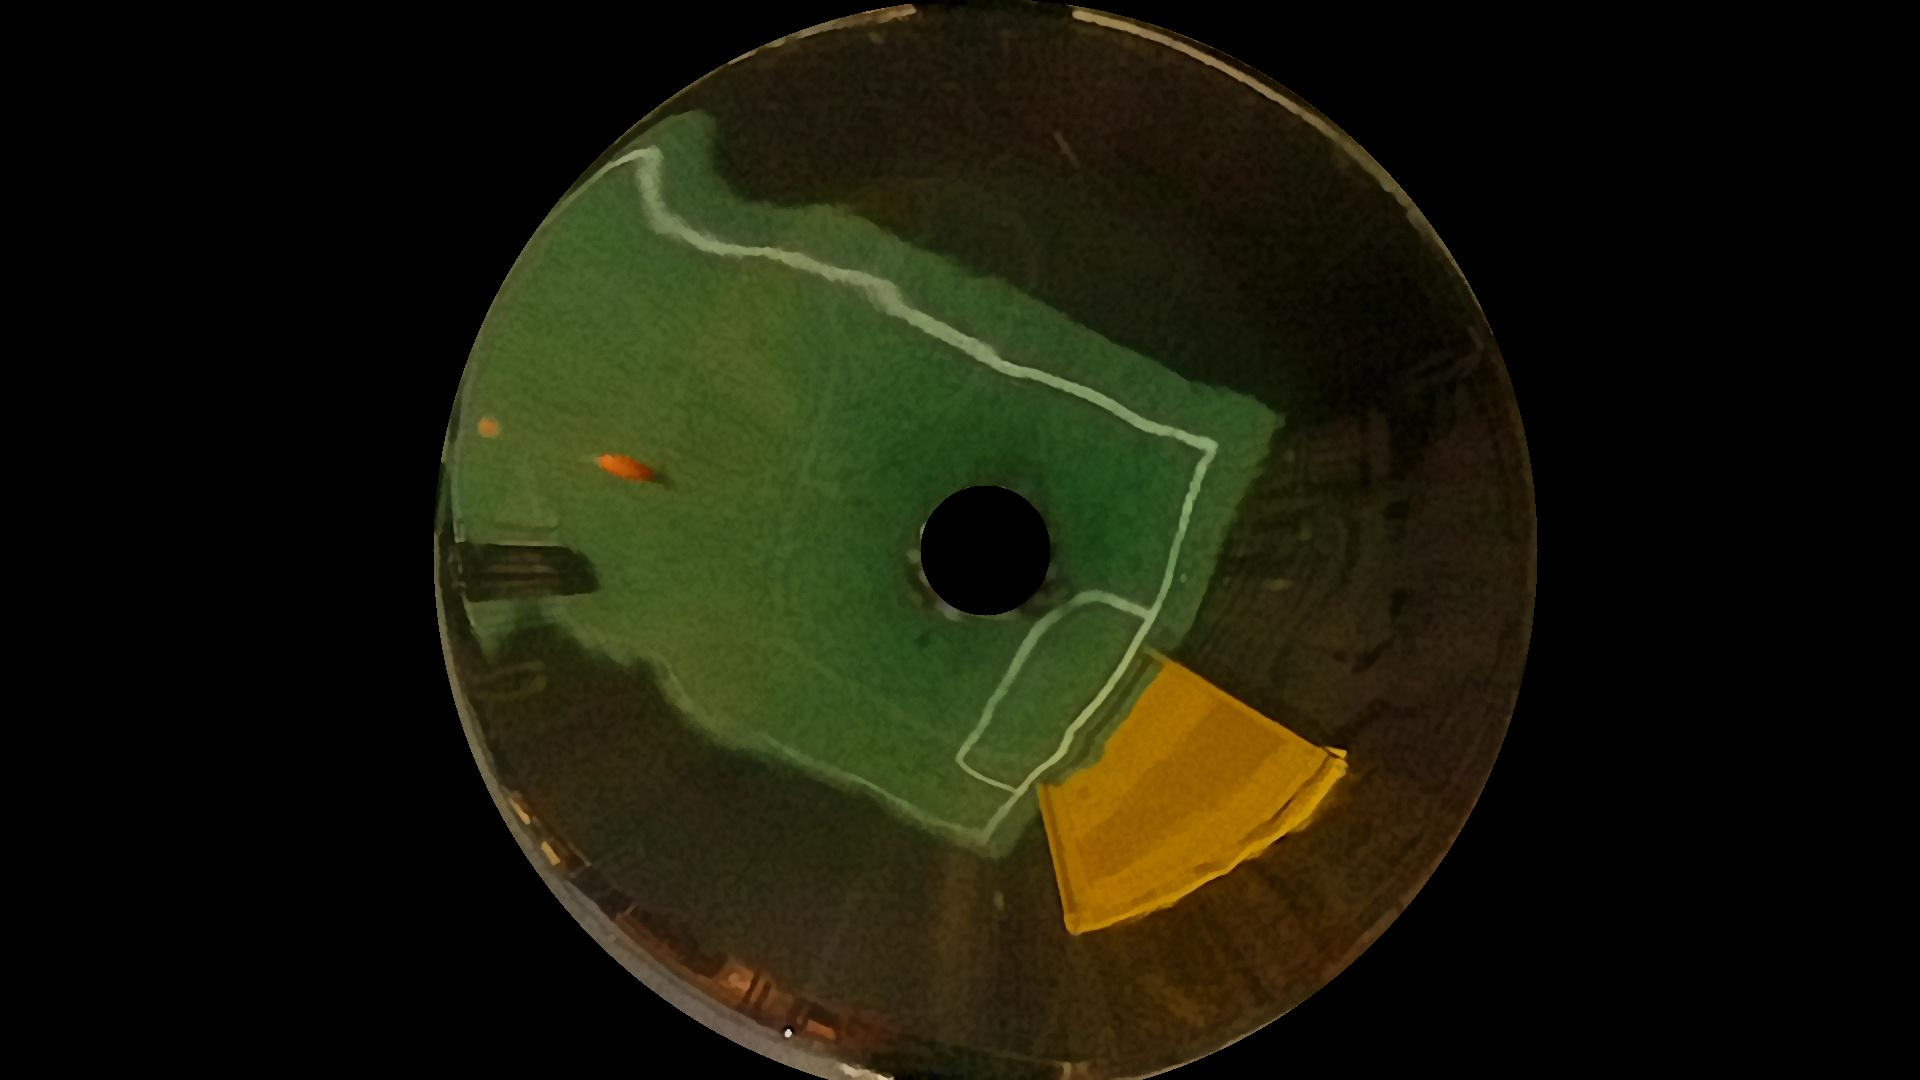ball: (595, 440, 651, 500)
robots: (443, 533, 604, 612)
yellow-goal: (1023, 649, 1325, 924)
